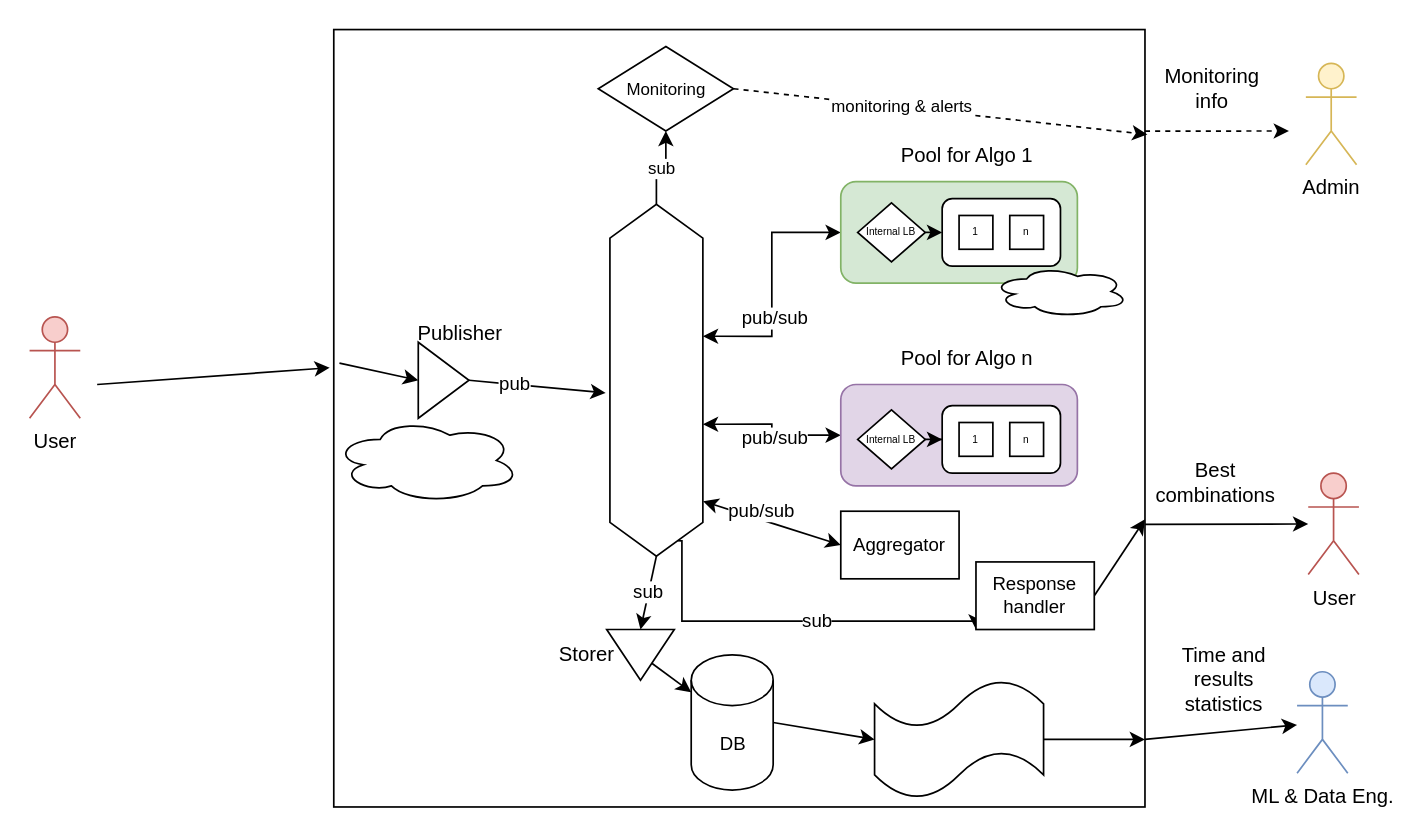
Image size: 1423x838. Some labels were removed from this diagram. The shapes that lost their labels are listed below. From the top down, each one's centre as x and y in pixels, then its label:
At pixel 1059 290: "Language agnostic".
At pixel 655 379: "Queueing system".
At pixel 426 460: "Should have a 'notify' or hook system when all jobs arecompleted".
At pixel 958 739: "Batch stats processor".
